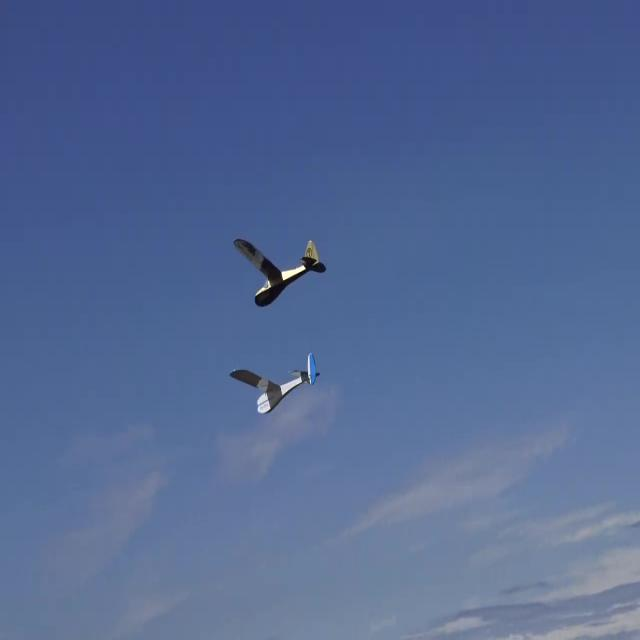iha: (262, 352, 288, 415), (265, 269, 295, 273)
